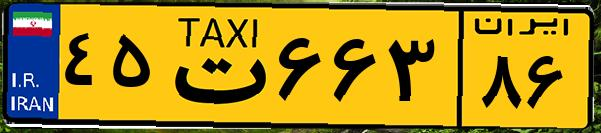3: (385, 28, 445, 110)
4: (57, 26, 110, 100)
5: (110, 28, 158, 98)
6: (270, 28, 330, 110), (330, 28, 385, 110), (525, 38, 570, 115)
8: (475, 38, 525, 113)
ت: (158, 12, 270, 120)
